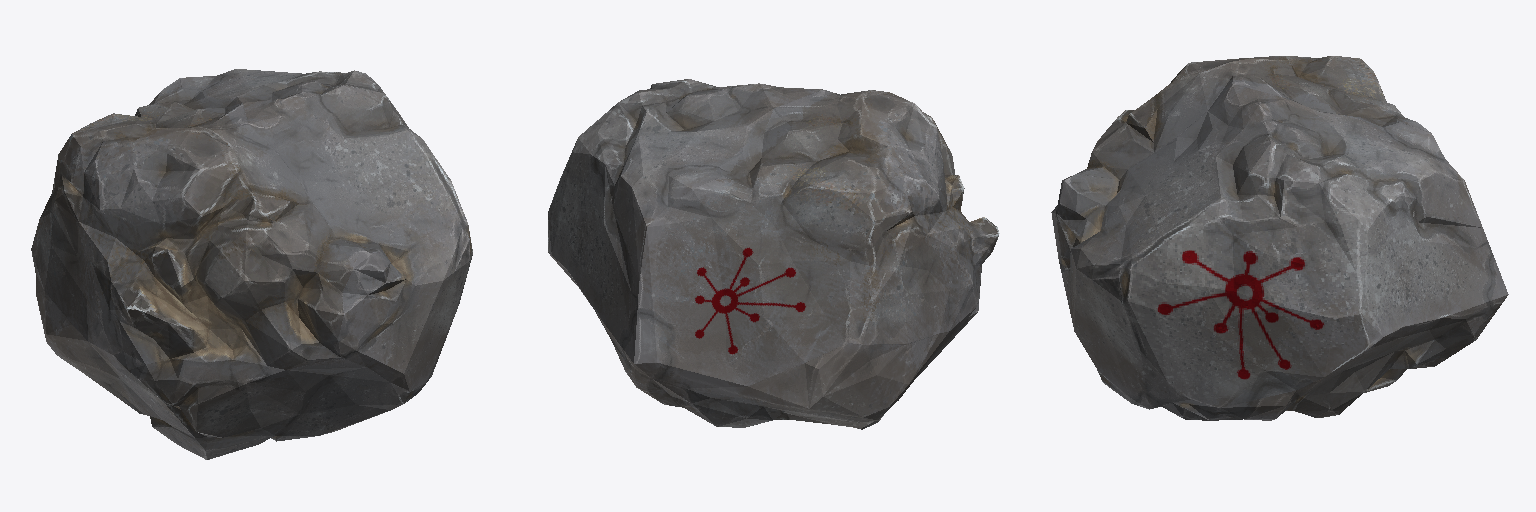
The picture shows the model from 3 angles: view 1: azimuth 30°, elevation 25°; view 2: azimuth 150°, elevation 25°; view 3: azimuth 270°, elevation 25°; orthographic projection.
Parts seen in each view (by area): view 1: Rock_rock_low.002_Group58368.002; view 2: Rock_rock_low.002_Group58368.002; view 3: Rock_rock_low.002_Group58368.002.
Part boxes in pixels (bbox=[...]): Rock_rock_low.002_Group58368.002: bbox=[31, 69, 472, 459]; Rock_rock_low.002_Group58368.002: bbox=[548, 79, 999, 429]; Rock_rock_low.002_Group58368.002: bbox=[1051, 56, 1508, 420].
Bounding box in the file's own units: 1.78 × 1.51 × 1.96.
Materials: 1 (1 with a texture image).